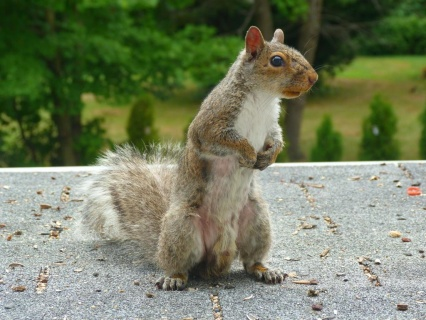Squirrel: (72, 25, 336, 293)
